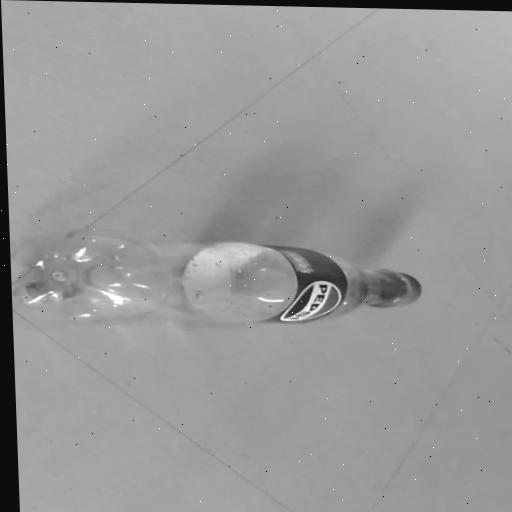bottle: (10, 229, 434, 334)
